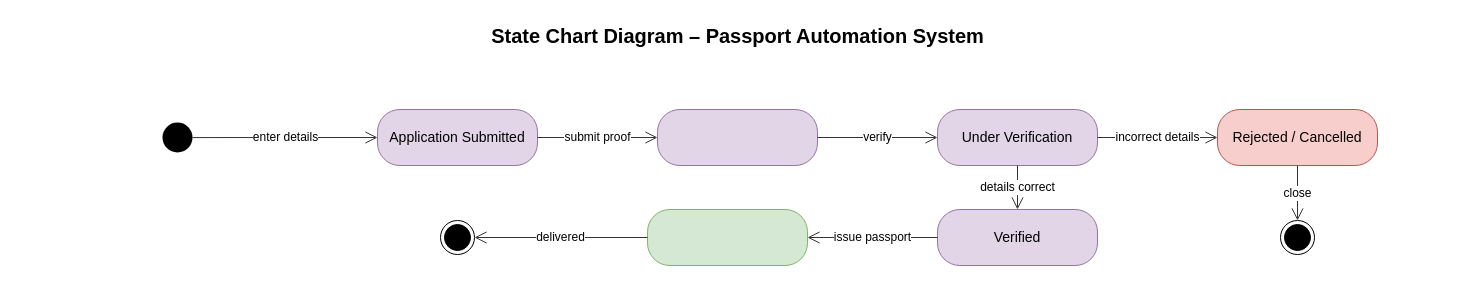
This 1474x283 diagram has some shape labels left out. Each missing label, with the centre of its shape:
"Passport Issued" belongs at point 727,237.
"Proof Submitted" belongs at point 737,137.
